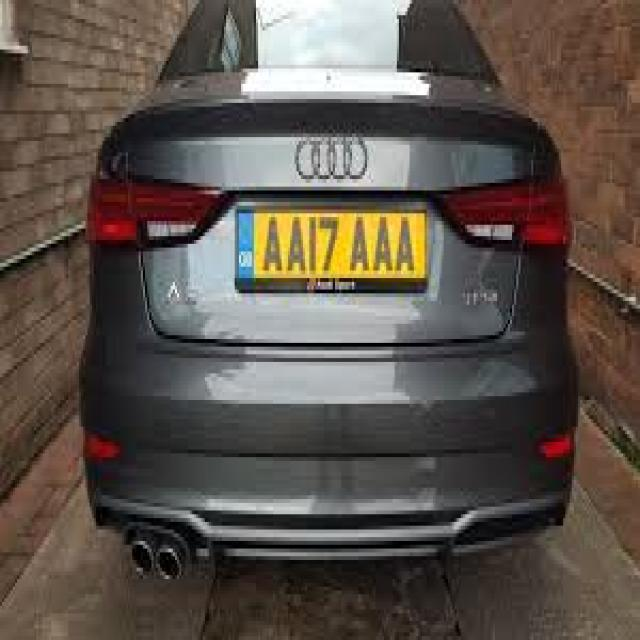Number-Plate: (237, 210, 425, 279)
